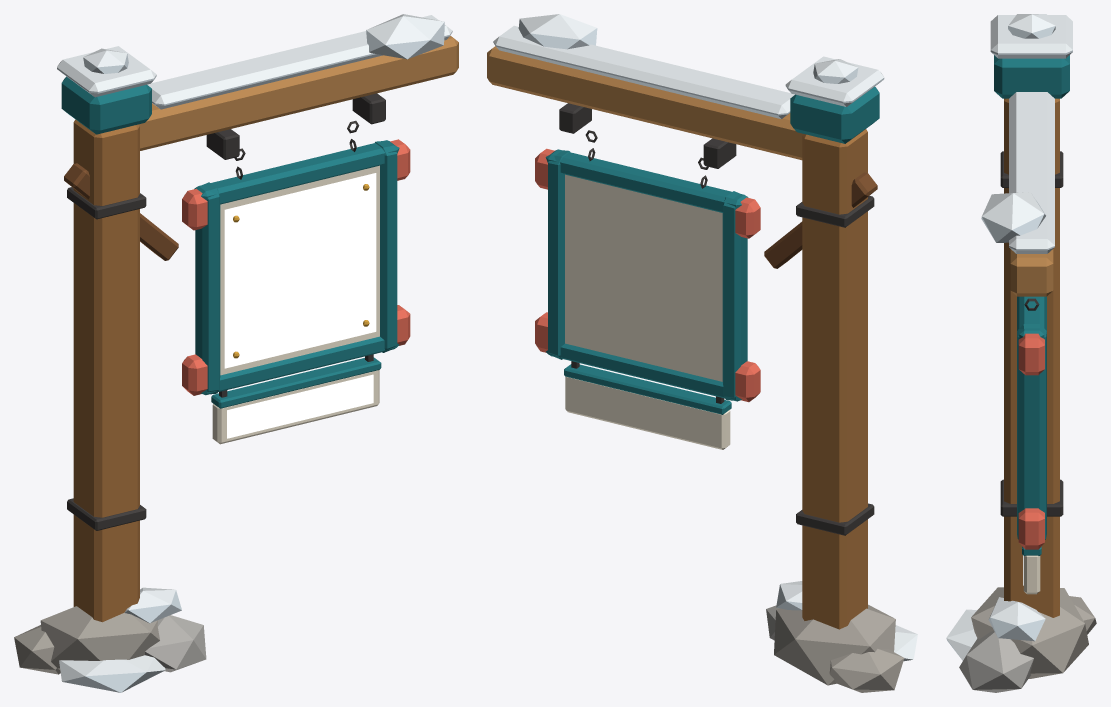
Rendered from activity_sign.glb.
The picture shows the model from 3 angles, left to right: view 1: azimuth 30°, elevation 25°; view 2: azimuth 150°, elevation 25°; view 3: azimuth 270°, elevation 25°; orthographic projection. The views are drawn at different scales.
Parts seen in each view (by area): view 1: activity_sign; view 2: activity_sign; view 3: activity_sign.
Boxes of the visible parts, bbox=[...] form: activity_sign: bbox=[14, 14, 458, 692]; activity_sign: bbox=[487, 14, 917, 692]; activity_sign: bbox=[946, 14, 1096, 692].
Size of the model in its own units: 1.55 by 2.22 by 0.4567.
